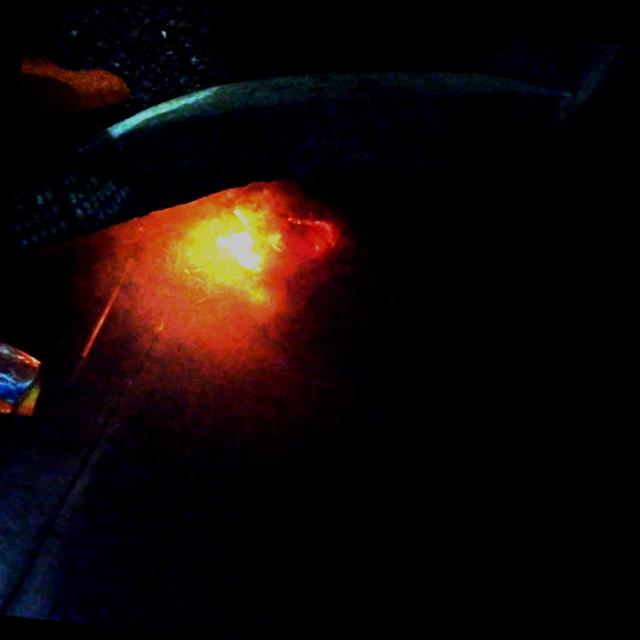helmet: (216, 215, 276, 275)
